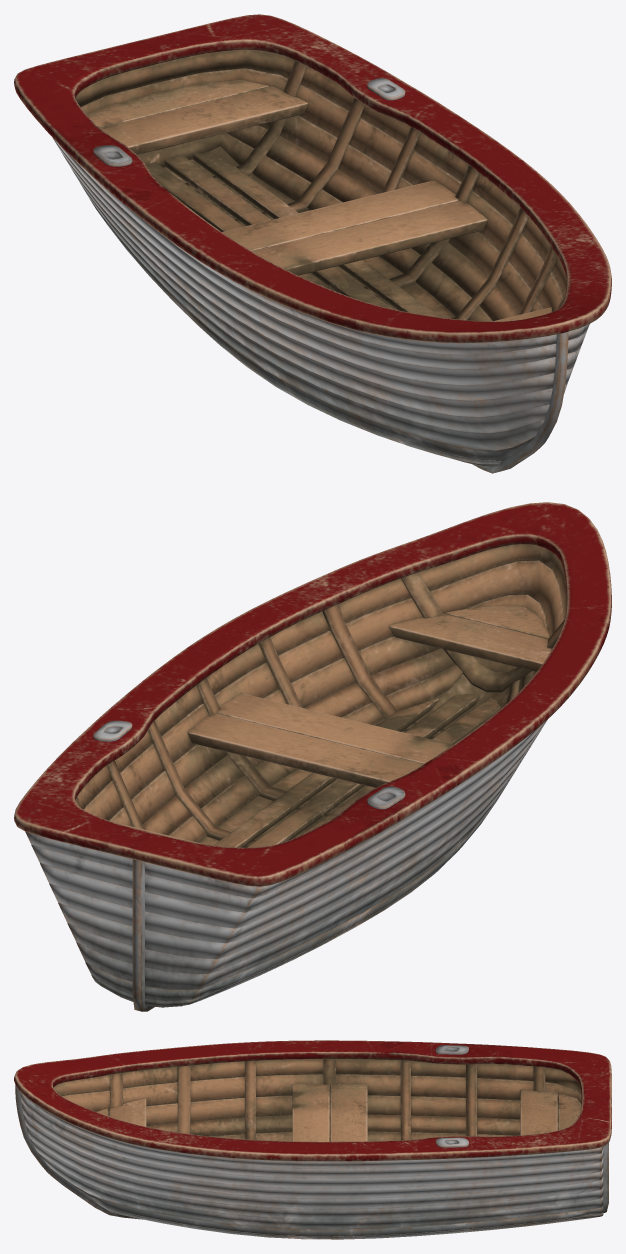
File: wooden-boat.glb
3 views of the same model, one above another, from view 1: azimuth 30°, elevation 25°; view 2: azimuth 150°, elevation 25°; view 3: azimuth 270°, elevation 25° (orthographic). The views are drawn at different scales.
Visible parts, largest first — view 1: Wooden Boat; view 2: Wooden Boat; view 3: Wooden Boat.
Boxes of the visible parts, bbox=[...] form: Wooden Boat: bbox=[14, 14, 611, 473]; Wooden Boat: bbox=[14, 502, 611, 1011]; Wooden Boat: bbox=[14, 1040, 611, 1239].
Size of the model in its own units: 1.82 by 1.1 by 3.99.
Materials: 1 (1 with a texture image).
